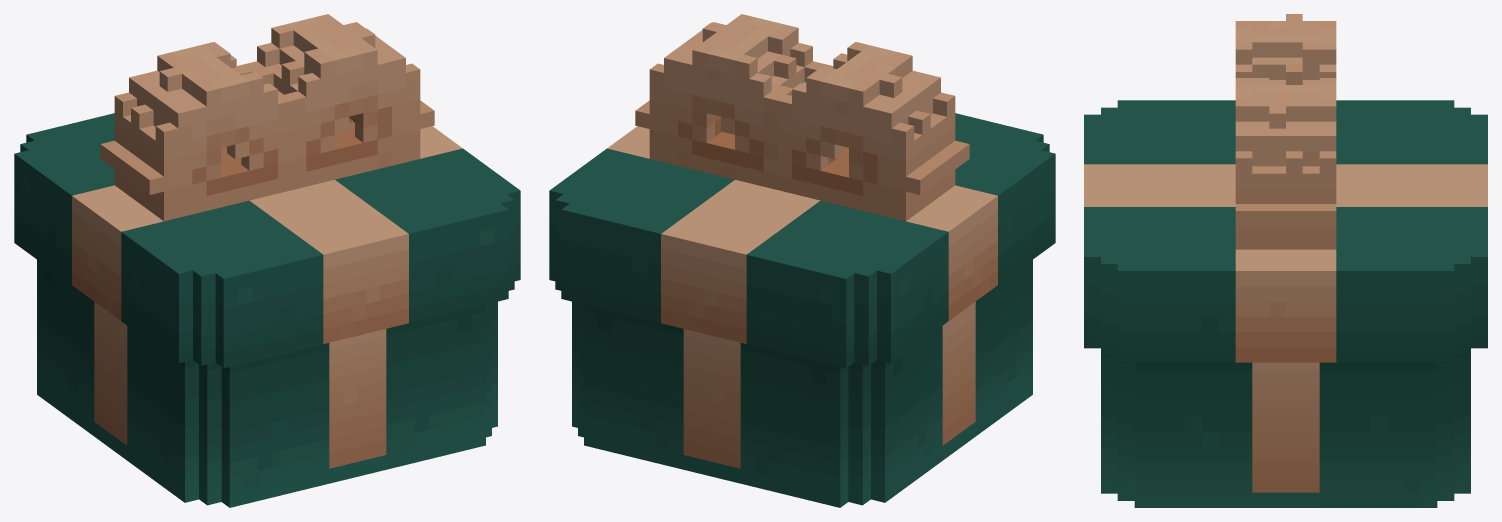
The model's file is kenney_present.glb.
3 views of the same model, side by side, from view 1: azimuth 30°, elevation 25°; view 2: azimuth 150°, elevation 25°; view 3: azimuth 270°, elevation 25° (orthographic). The views are drawn at different scales.
Parts seen in each view (by area): view 1: _MeshInstance3D_10; view 2: _MeshInstance3D_10; view 3: _MeshInstance3D_10.
Boxes of the visible parts, box(x1,y1,x2,y2) form: _MeshInstance3D_10: box(14, 14, 520, 507); _MeshInstance3D_10: box(549, 14, 1055, 507); _MeshInstance3D_10: box(1084, 14, 1487, 507).
Size of the model in its own units: 0.6 by 0.6 by 0.6.
